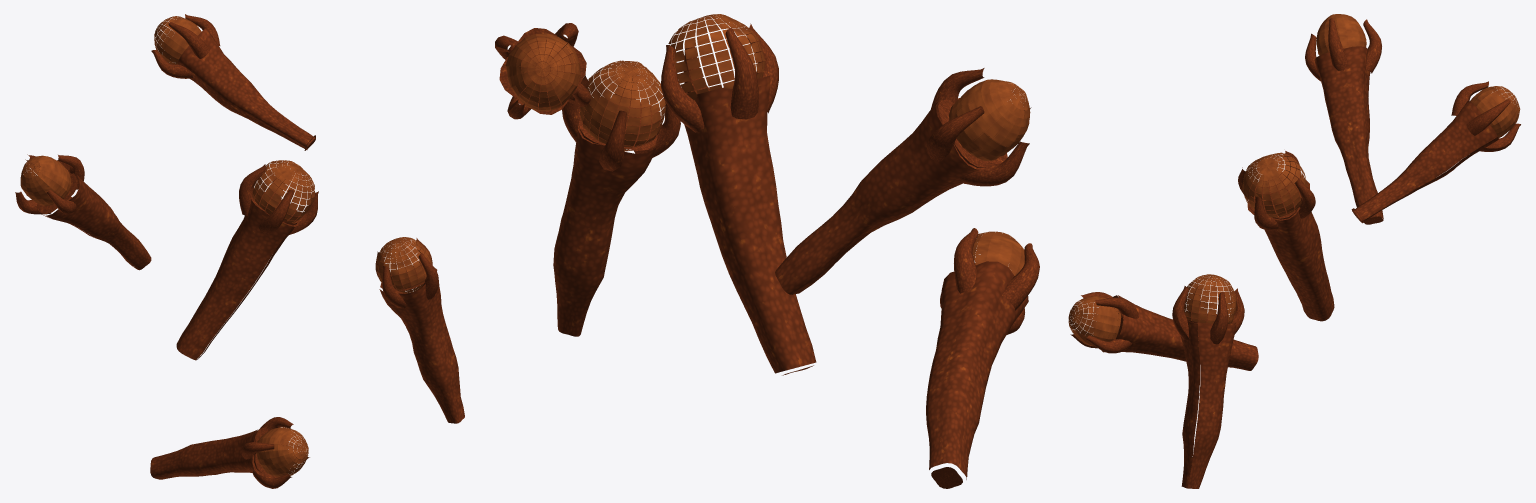
Rendered from cloves.glb.
3 renders of one model, left to right at view 1: azimuth 30°, elevation 25°; view 2: azimuth 150°, elevation 25°; view 3: azimuth 270°, elevation 25°, orthographic. The views are drawn at different scales.
Visible parts, largest first — view 1: clove-stalks, clove-buds; view 2: clove-stalks, clove-buds; view 3: clove-stalks, clove-buds.
Boxes of the visible parts, bbox=[...] form: clove-stalks: bbox=[15, 14, 464, 488]; clove-buds: bbox=[20, 16, 432, 476]; clove-stalks: bbox=[495, 23, 1039, 488]; clove-buds: bbox=[505, 14, 1030, 275]; clove-stalks: bbox=[1070, 18, 1520, 488]; clove-buds: bbox=[1068, 14, 1520, 346].
Bounding box in the file's own units: 0.0435 × 0.038 × 0.0444.
Materials: 2 (2 with a texture image).
